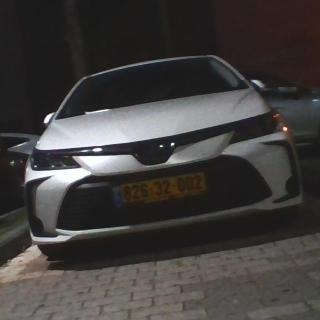LicensePlate: (121, 171, 206, 203)
